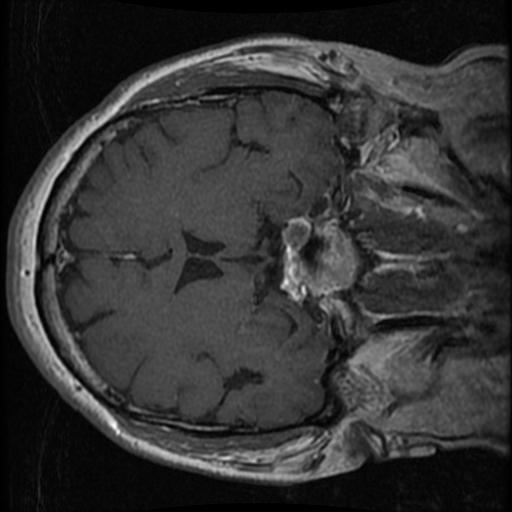pituitary tumour: (280, 214, 314, 250)
